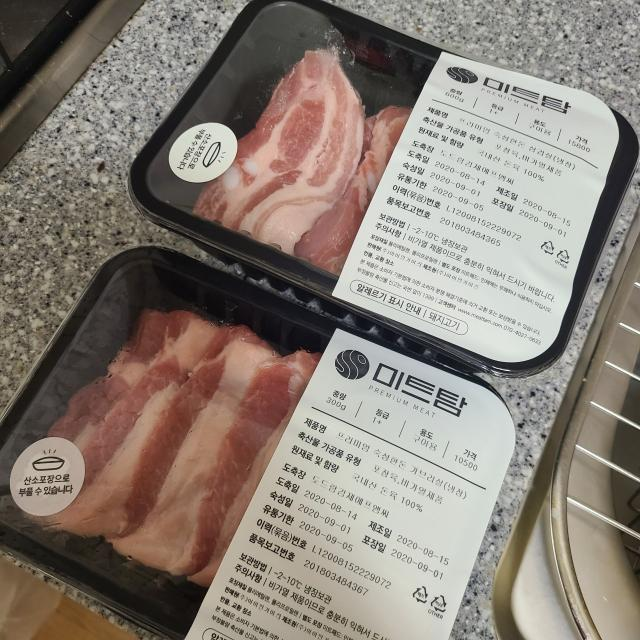pork: (17, 298, 497, 640), (155, 39, 612, 316)
